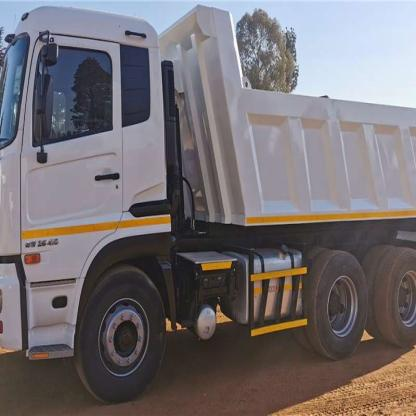dump_truck: (3, 2, 416, 402)
